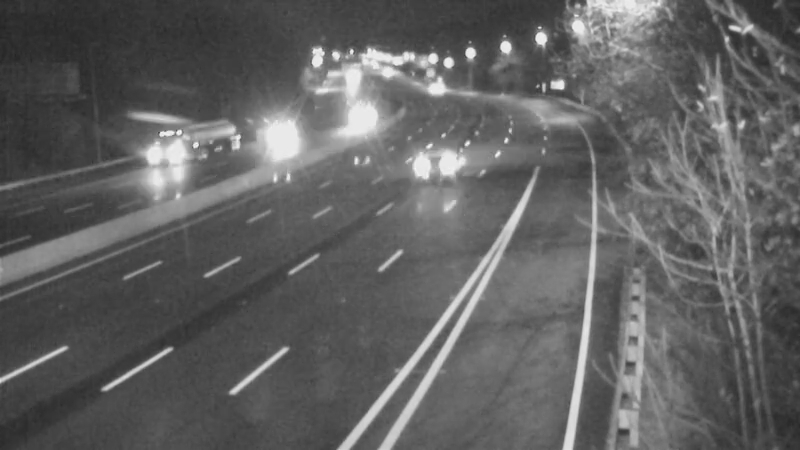vehicle: (390, 129, 470, 209), (411, 60, 461, 110), (142, 122, 192, 172), (256, 116, 306, 166), (336, 96, 386, 146)
